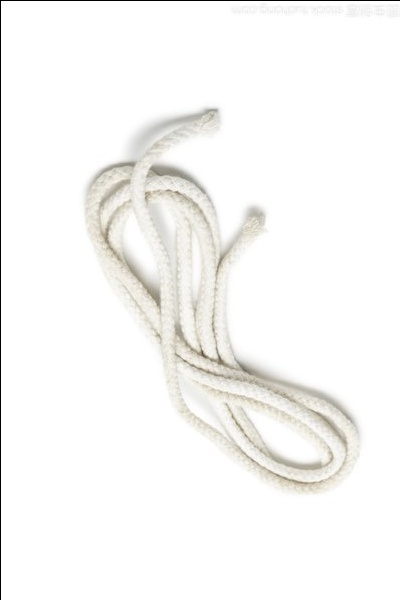9/可回收垃圾/绳子: (84, 109, 360, 495)
